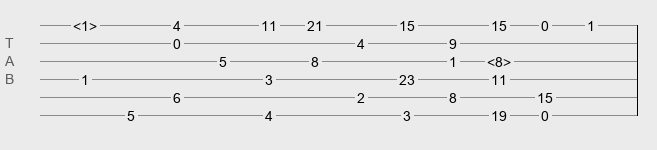0: (173, 36, 181, 46), (541, 18, 549, 28), (541, 108, 549, 118)
1: (81, 72, 89, 82), (449, 54, 457, 64), (587, 18, 595, 28)
11: (261, 18, 277, 28), (491, 72, 507, 82)
15: (399, 18, 415, 28), (491, 18, 507, 28), (537, 90, 553, 100)
19: (491, 108, 507, 118)
2: (357, 90, 365, 100)
21: (307, 18, 323, 28)
23: (399, 72, 415, 82)
3: (265, 72, 273, 82), (403, 108, 411, 118)
4: (173, 18, 181, 28), (265, 108, 273, 118), (357, 36, 365, 46)
5: (127, 108, 135, 118), (219, 54, 227, 64)
6: (173, 90, 181, 100)
8: (311, 54, 319, 64), (449, 90, 457, 100)
9: (449, 36, 457, 46)
harmonic: (73, 18, 97, 28), (487, 54, 511, 64)
